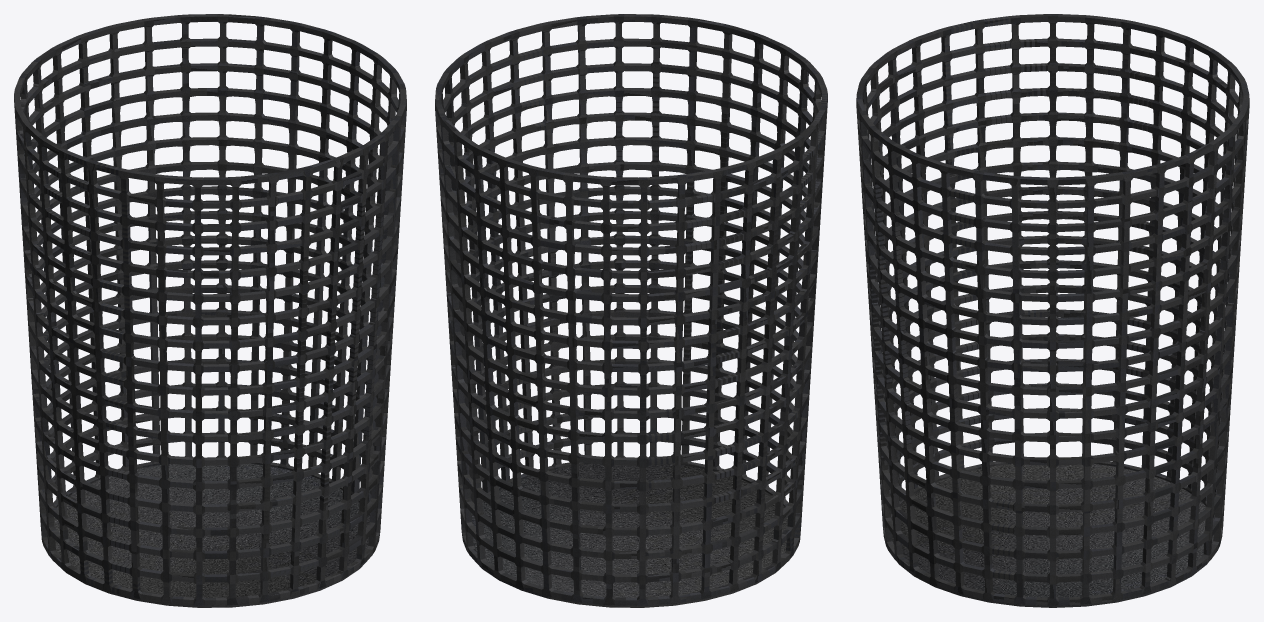
The model's file is trashbin.fbx.
3 views of the same model, side by side, from view 1: azimuth 30°, elevation 25°; view 2: azimuth 150°, elevation 25°; view 3: azimuth 270°, elevation 25° (orthographic).
Parts seen in each view (by area): view 1: Cylinder, Cylinder.001; view 2: Cylinder, Cylinder.001; view 3: Cylinder, Cylinder.001.
Boxes of the visible parts, left/top/right/bottom form: Cylinder: left=14, top=14, right=406, bottom=605; Cylinder.001: left=52, top=463, right=369, bottom=607; Cylinder: left=435, top=14, right=827, bottom=605; Cylinder.001: left=472, top=463, right=789, bottom=607; Cylinder: left=856, top=14, right=1249, bottom=605; Cylinder.001: left=892, top=463, right=1213, bottom=607.
Size of the model in its own units: 236 by 291 by 236.
